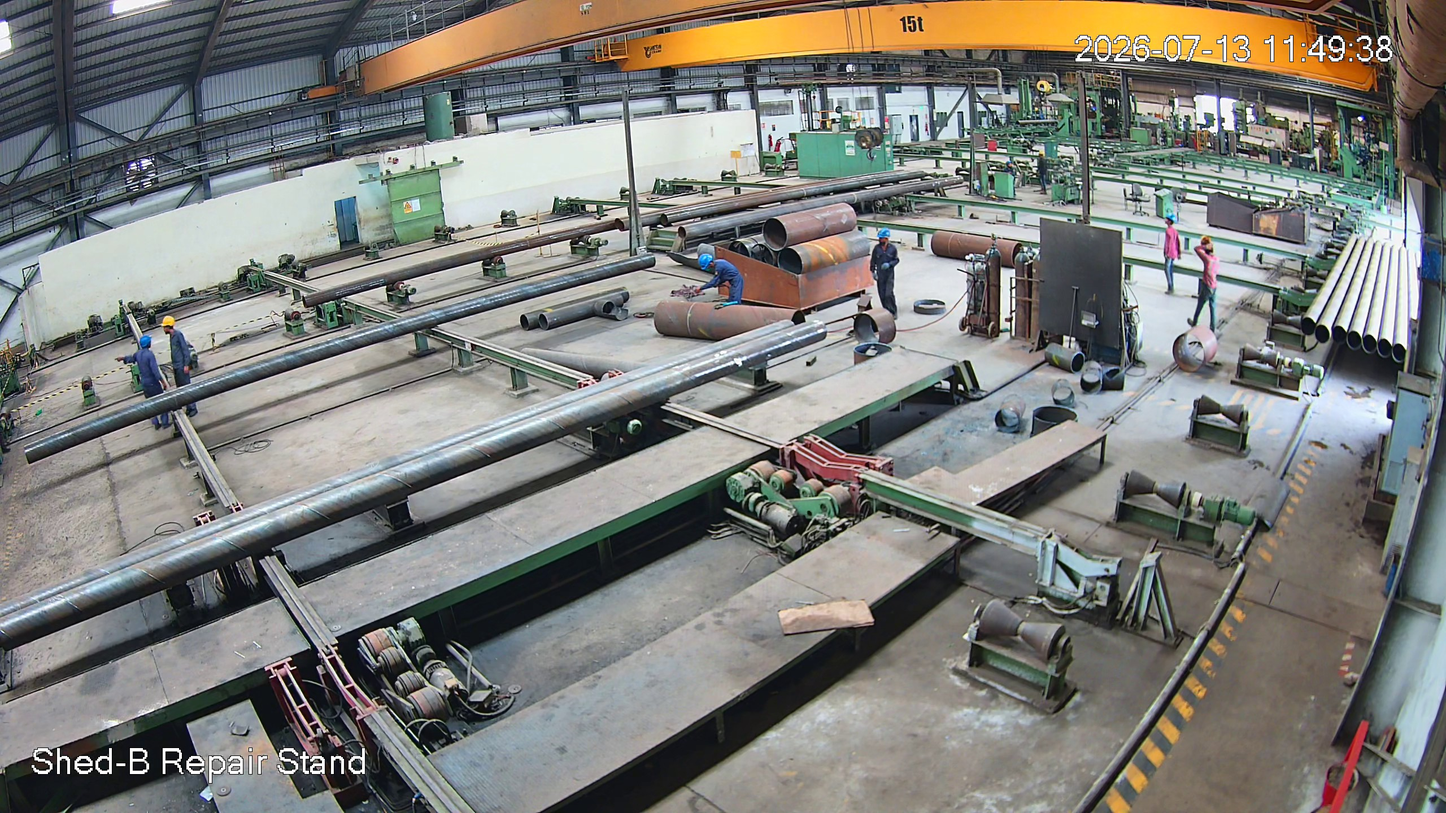Helmet: (875, 227, 897, 250), (159, 313, 178, 339), (694, 252, 714, 274), (137, 336, 157, 354), (1163, 212, 1178, 231)
Person: (160, 315, 203, 423), (868, 229, 910, 325), (129, 337, 170, 429), (1191, 245, 1223, 340), (698, 254, 745, 307), (1161, 214, 1182, 292)
